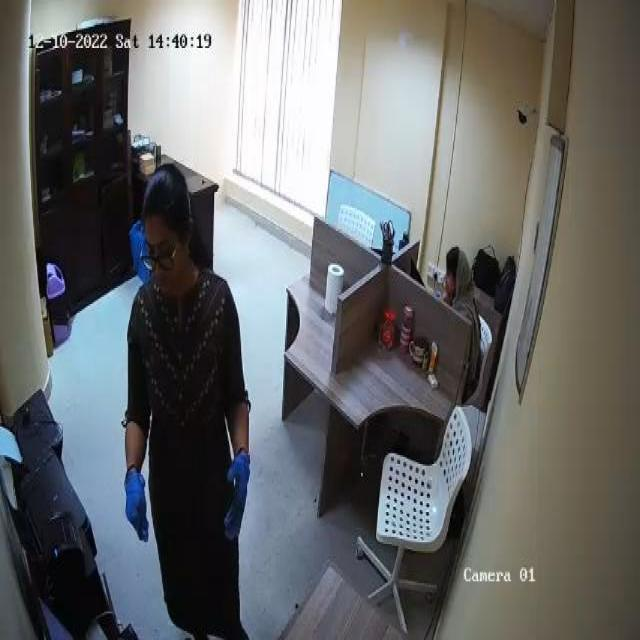gloved_hand: (224, 452, 252, 546), (123, 473, 150, 546)
